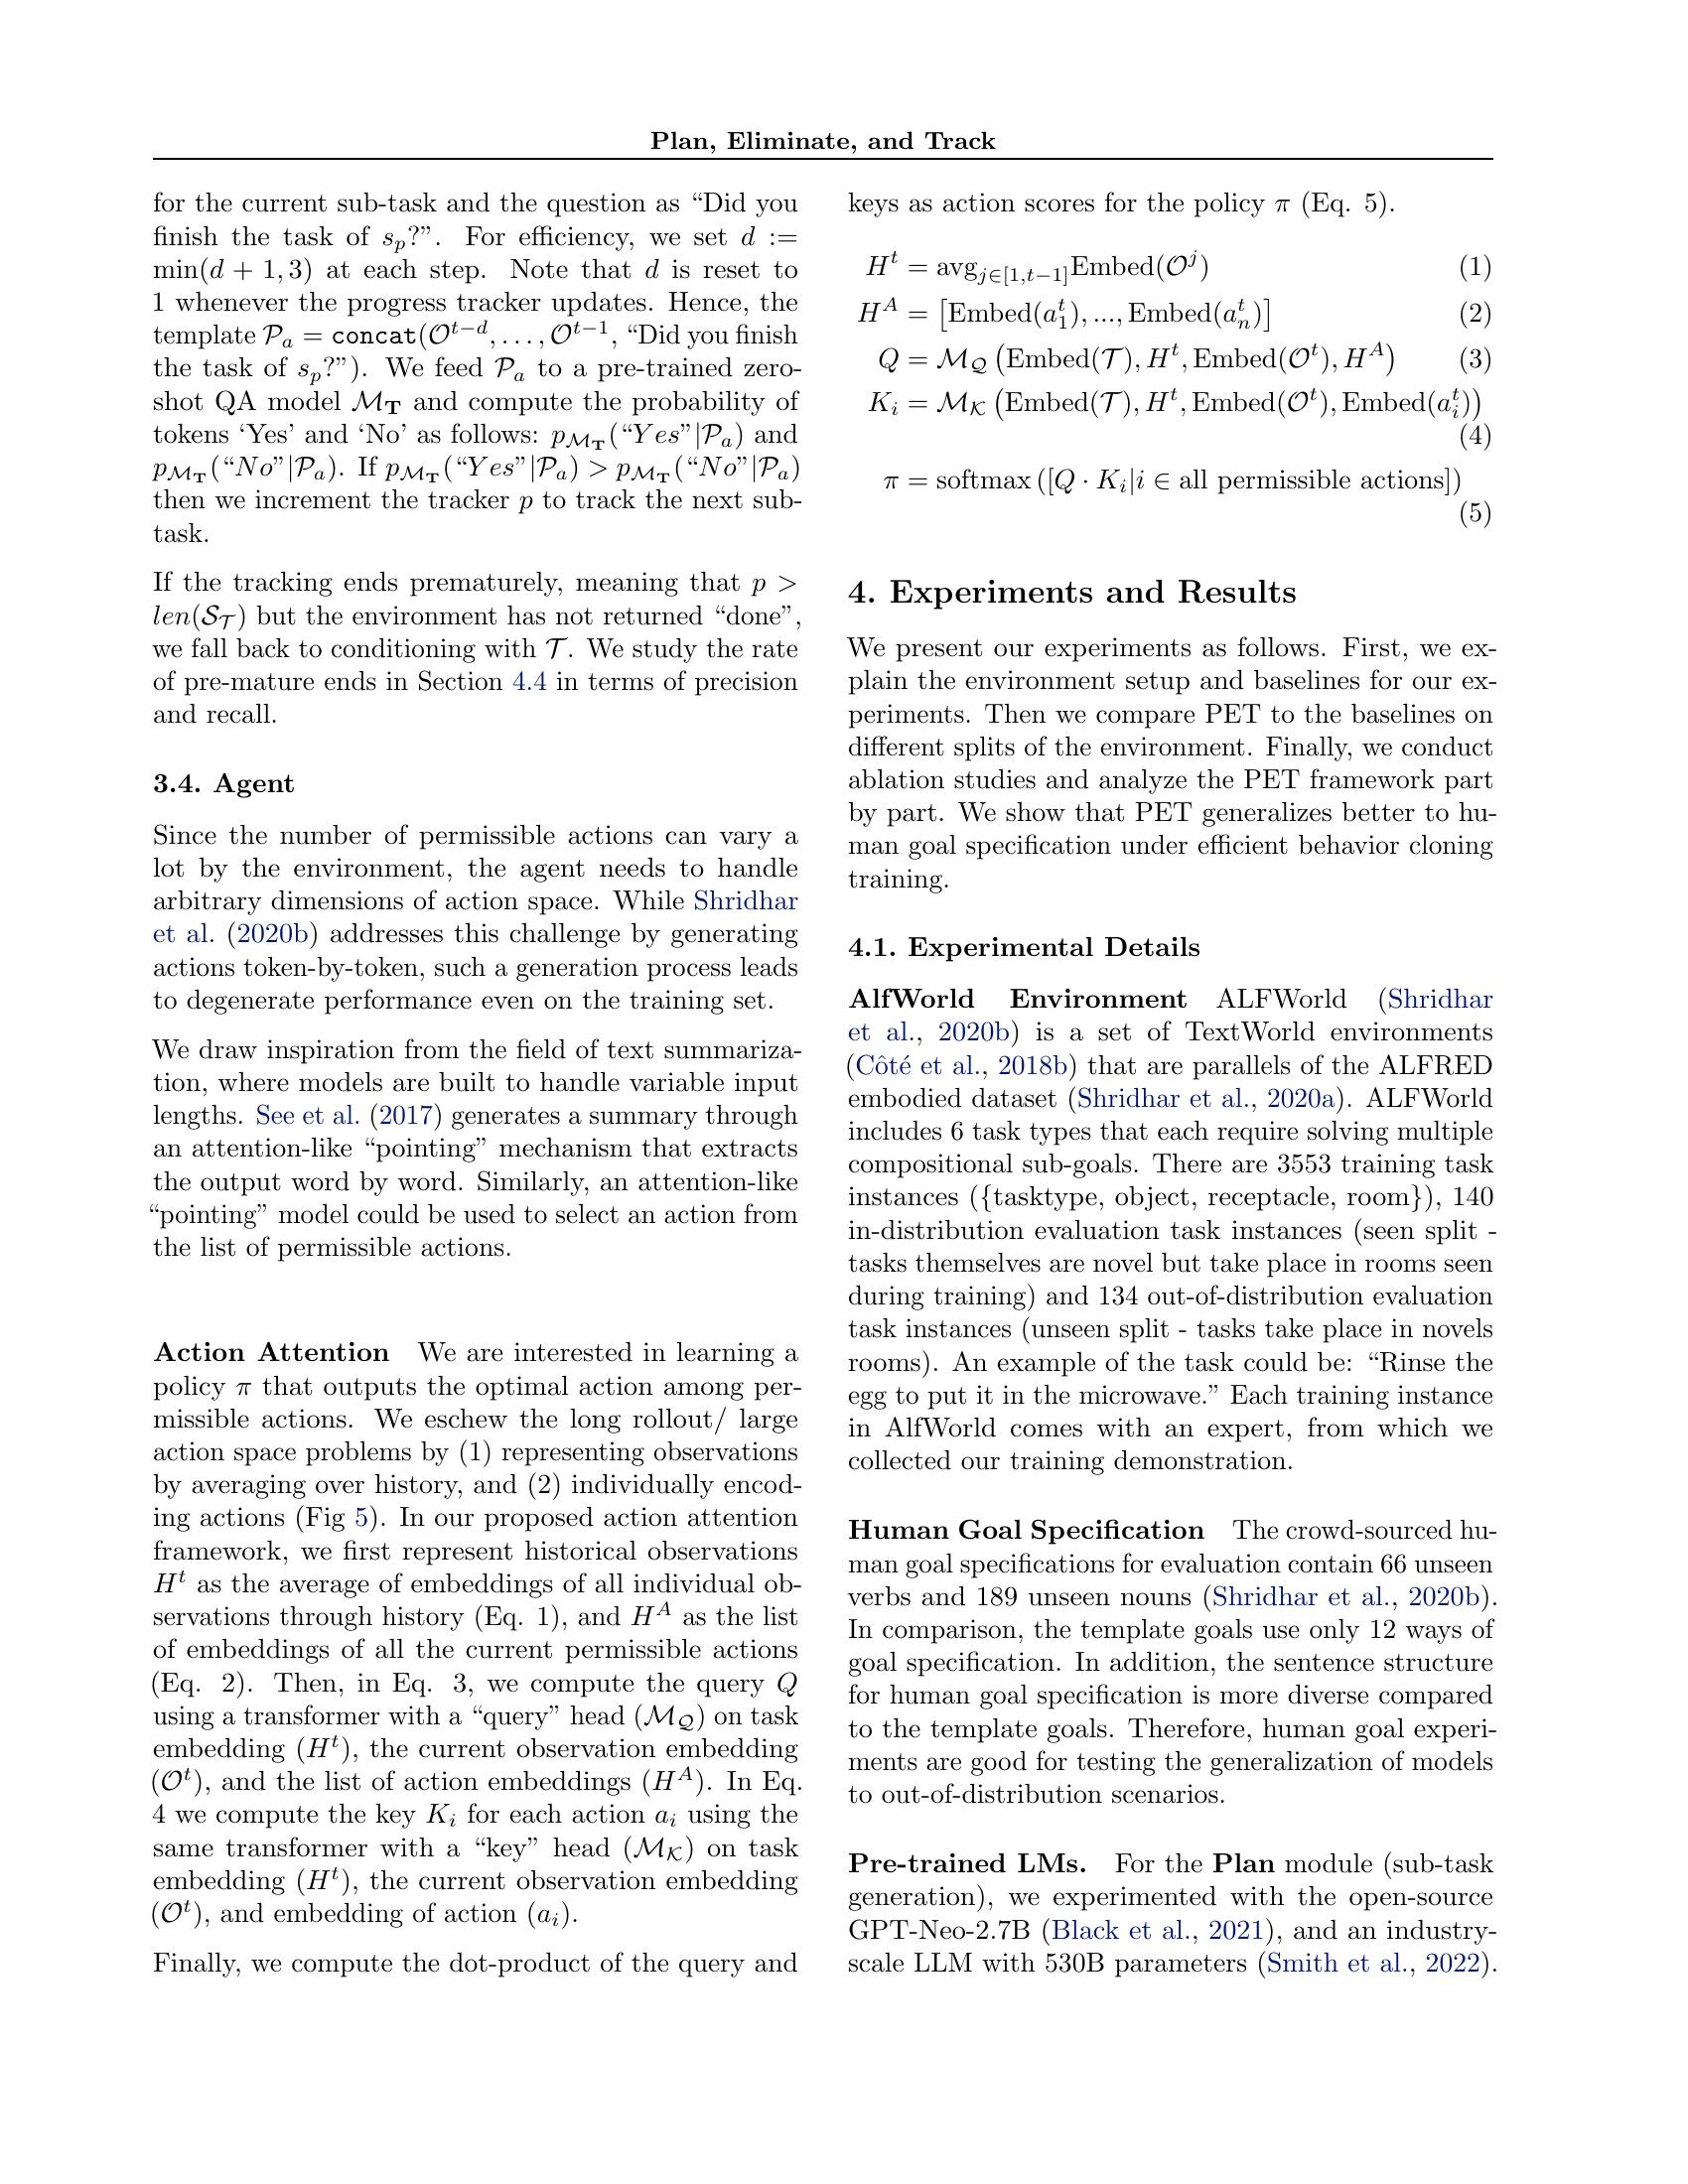text: (833, 179, 1512, 909), (131, 1322, 807, 1991), (833, 922, 1511, 1489), (137, 179, 819, 736), (138, 766, 814, 1276), (835, 1507, 1511, 1996)
